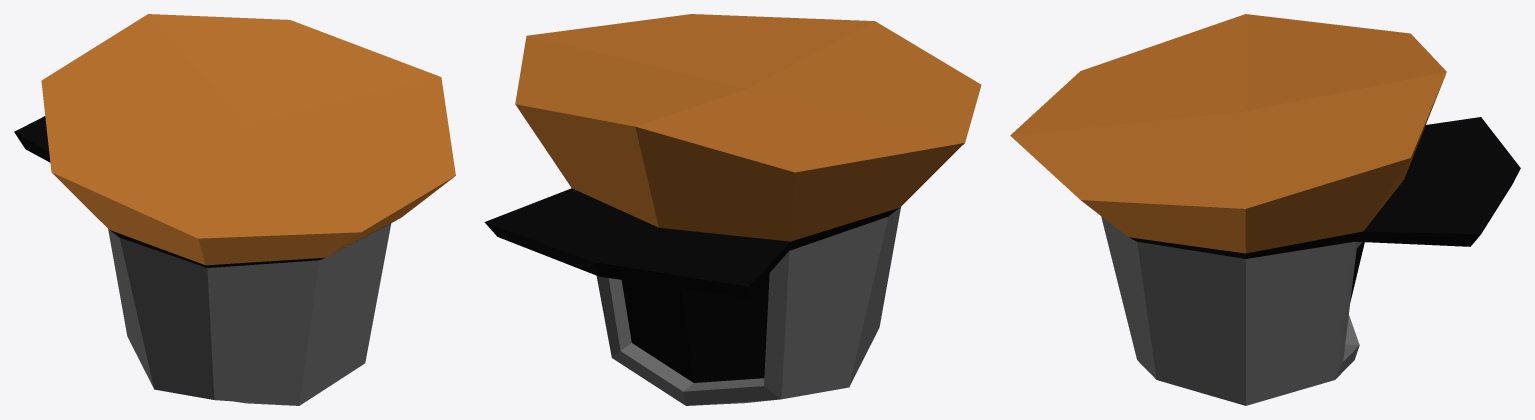
Rendered from PraedatumSecurityBotHead.glb.
The picture shows the model from 3 angles, left to right: view 1: azimuth 30°, elevation 25°; view 2: azimuth 150°, elevation 25°; view 3: azimuth 270°, elevation 25°; orthographic projection. The views are drawn at different scales.
Visible parts, largest first — view 1: Head; view 2: Head; view 3: Head.
Part boxes in pixels (<box>): Head: <box>14,14,455,405</box>; Head: <box>484,14,981,405</box>; Head: <box>1010,14,1520,405</box>.
Size of the model in its own units: 2.58 by 2.01 by 2.86.
